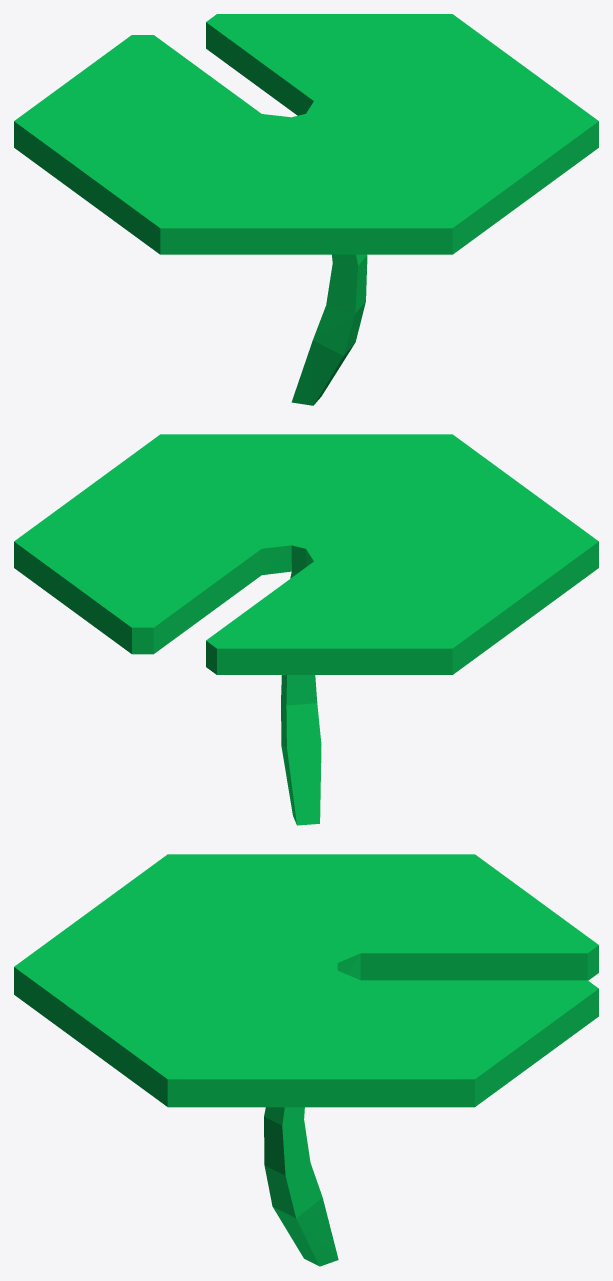
The model's file is Body.obj.
The picture shows the model from 3 angles, top to bottom: view 1: azimuth 30°, elevation 25°; view 2: azimuth 150°, elevation 25°; view 3: azimuth 270°, elevation 25°; orthographic projection. The views are drawn at different scales.
Visible parts, largest first — view 1: obj1, obj3; view 2: obj1, obj3; view 3: obj1, obj3.
Boxes of the visible parts, left/top/right/bottom form: obj1: left=14, top=14, right=598, bottom=254; obj3: left=291, top=254, right=367, bottom=405; obj1: left=14, top=434, right=598, bottom=674; obj3: left=281, top=571, right=321, bottom=825; obj1: left=14, top=854, right=598, bottom=1107; obj3: left=264, top=1107, right=338, bottom=1266.
Size of the model in its own units: 0.866 by 0.525 by 0.9516.
